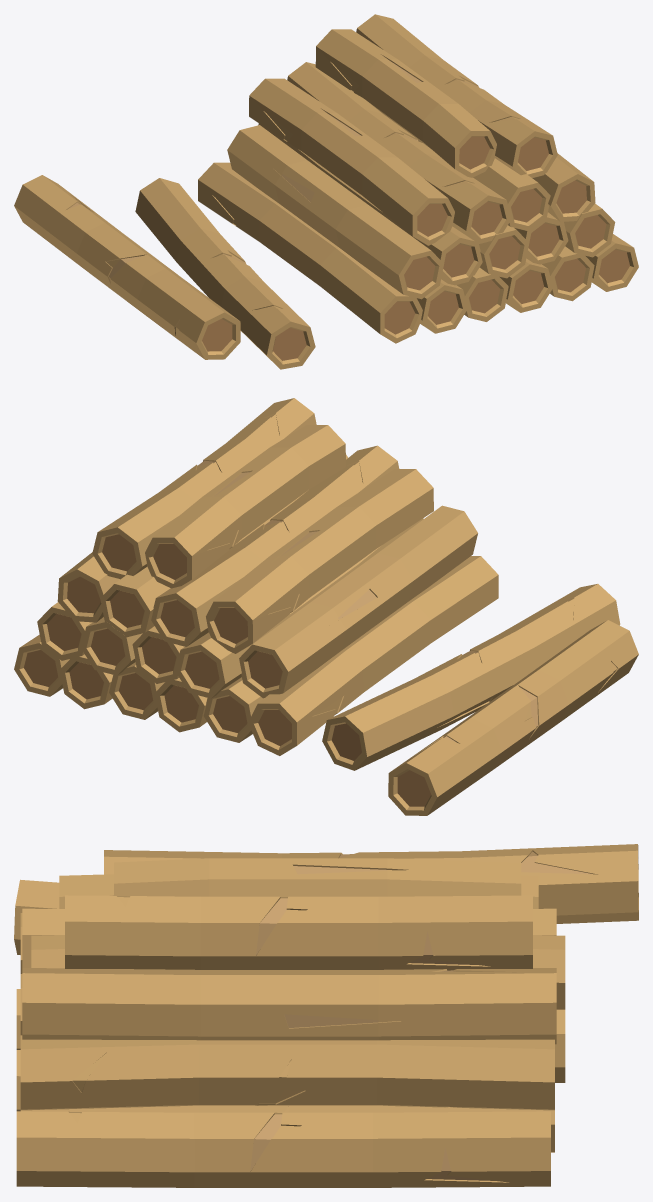
File: props_90.gltf
The picture shows the model from 3 angles, top to bottom: view 1: azimuth 30°, elevation 25°; view 2: azimuth 150°, elevation 25°; view 3: azimuth 270°, elevation 25°; orthographic projection. The views are drawn at different scales.
Visible parts, largest first — view 1: props_90; view 2: props_90; view 3: props_90.
Boxes of the visible parts, left/top/right/bottom form: props_90: left=14, top=14, right=638, bottom=369; props_90: left=14, top=398, right=638, bottom=815; props_90: left=14, top=844, right=638, bottom=1187.
Bounding box in the file's own units: 1.05 × 0.4128 × 0.9398.
Materials: 1 (1 with a texture image).
